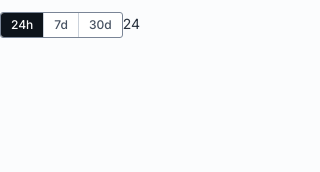
Test: Segmented and button-styled links › picks one option with native radios and names the short labels
The width and height of the screenshot is (320, 172).
Expected: the radio button named "Last 24 hours" is checked, [1,13,43,37]
Click the radio button named "Last 7 days" at (61, 25), box [43,13,78,37]
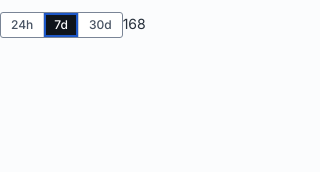
Now the text "168" is shown, box [123,15,146,32]
Click the radio button labelled "30d" at (100, 25), box [78,13,122,37]
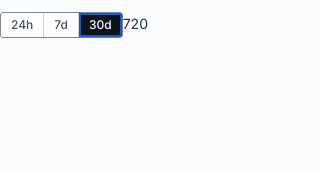
Now the radio button labelled "30d" is checked, box [78,13,122,37]
